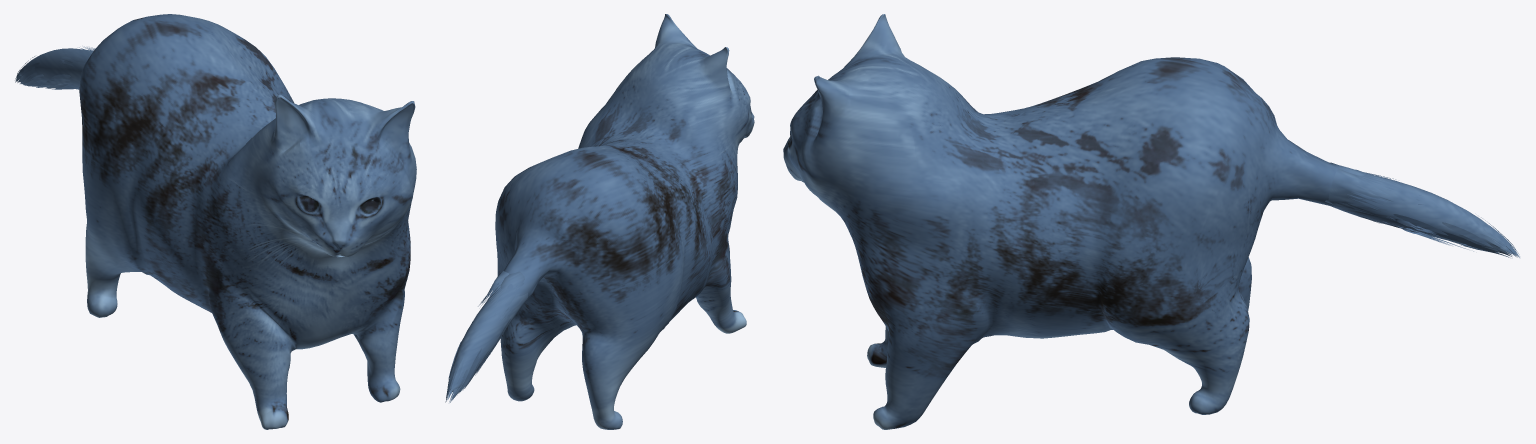
File: cat-blue.glb
3 views of the same model, side by side, from view 1: azimuth 30°, elevation 25°; view 2: azimuth 150°, elevation 25°; view 3: azimuth 270°, elevation 25° (orthographic). The views are drawn at different scales.
Parts seen in each view (by area): view 1: Muchkin1.002; view 2: Muchkin1.002; view 3: Muchkin1.002.
Boxes of the visible parts, x1,y1,x2,y2 form: Muchkin1.002: [15, 14, 416, 429]; Muchkin1.002: [445, 14, 754, 429]; Muchkin1.002: [783, 14, 1519, 429].
Bounding box in the file's own units: 0.2392 × 0.3866 × 0.7242.
Materials: 1 (1 with a texture image).
